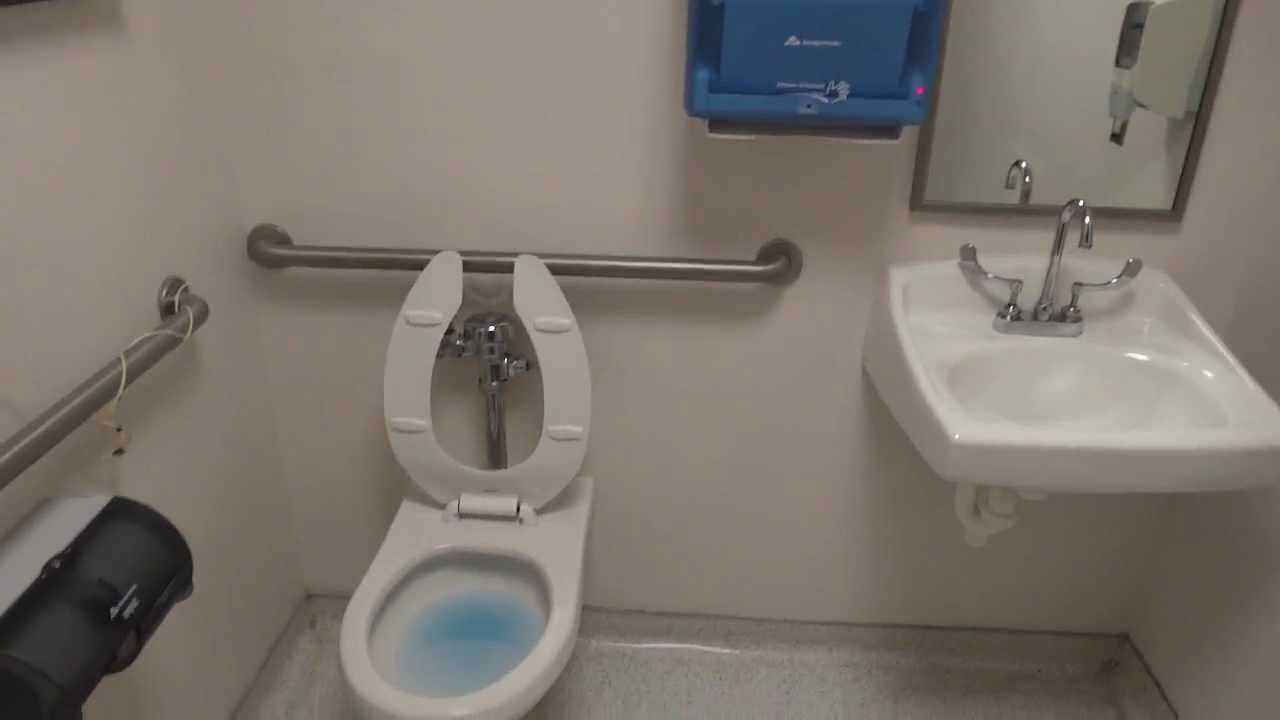dispenser: (1, 484, 210, 720), (679, 1, 946, 146)
faucet: (958, 195, 1143, 342)
restroom_assist_bar: (1, 277, 212, 496), (245, 224, 800, 287)
sink: (872, 255, 1280, 485)
toilet: (339, 252, 598, 720)
